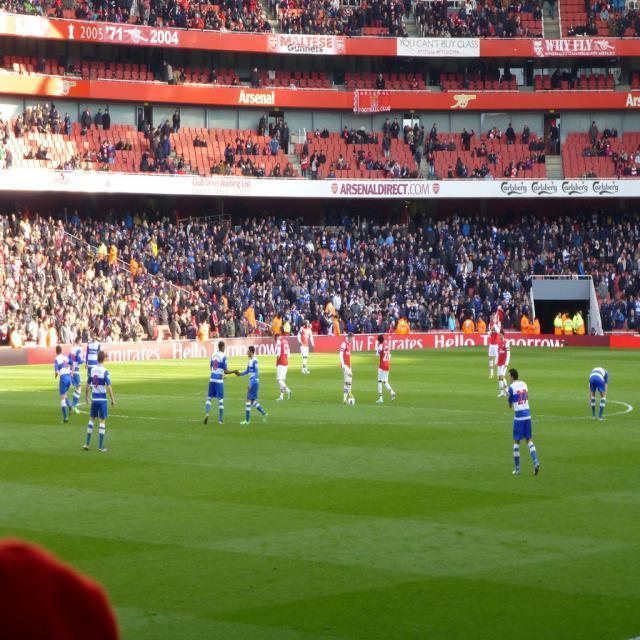ball: (349, 398, 355, 405)
